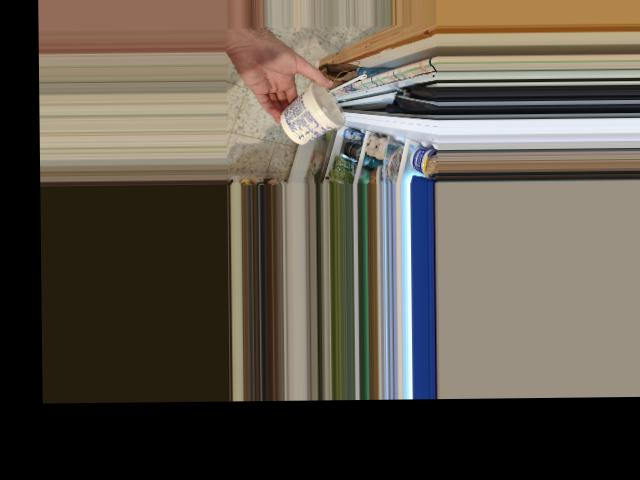cotage: (280, 76, 336, 137)
